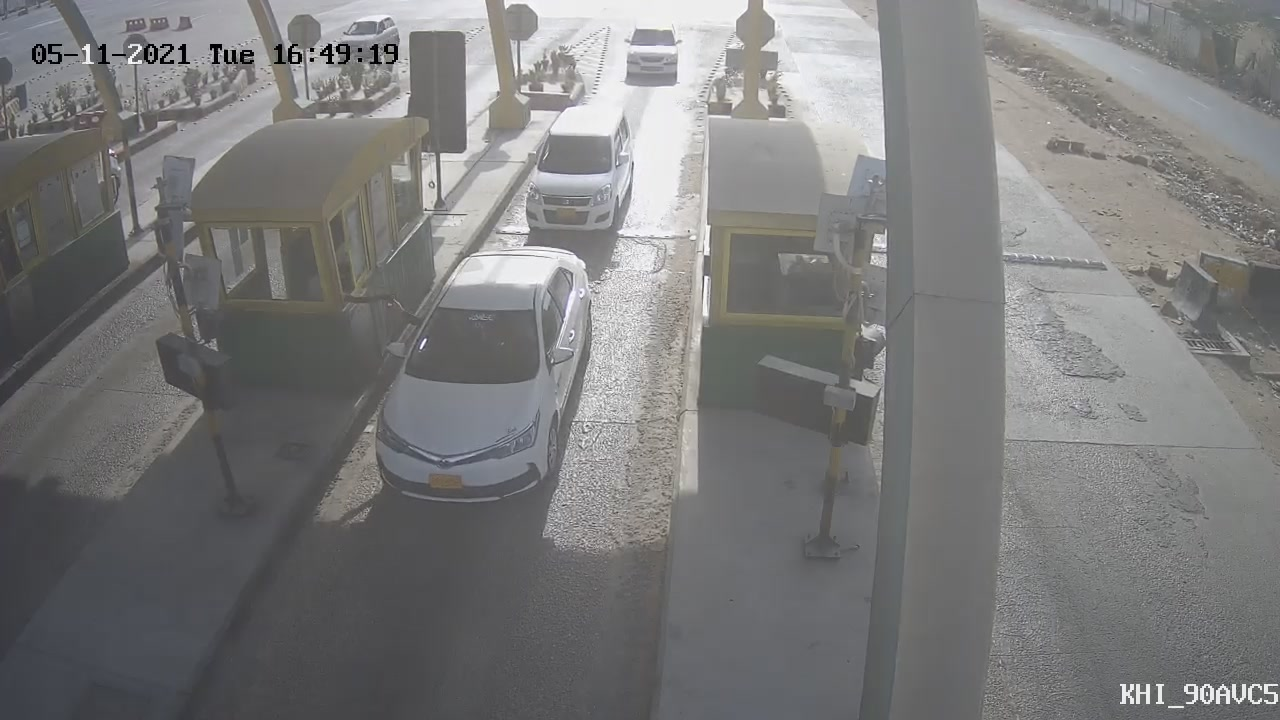F1: (350, 230, 609, 527), (512, 88, 651, 252)
